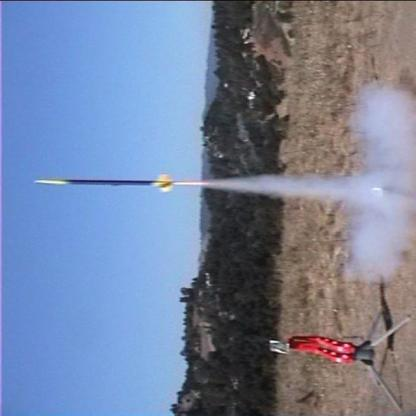MIL_TBM: (33, 174, 208, 191)
